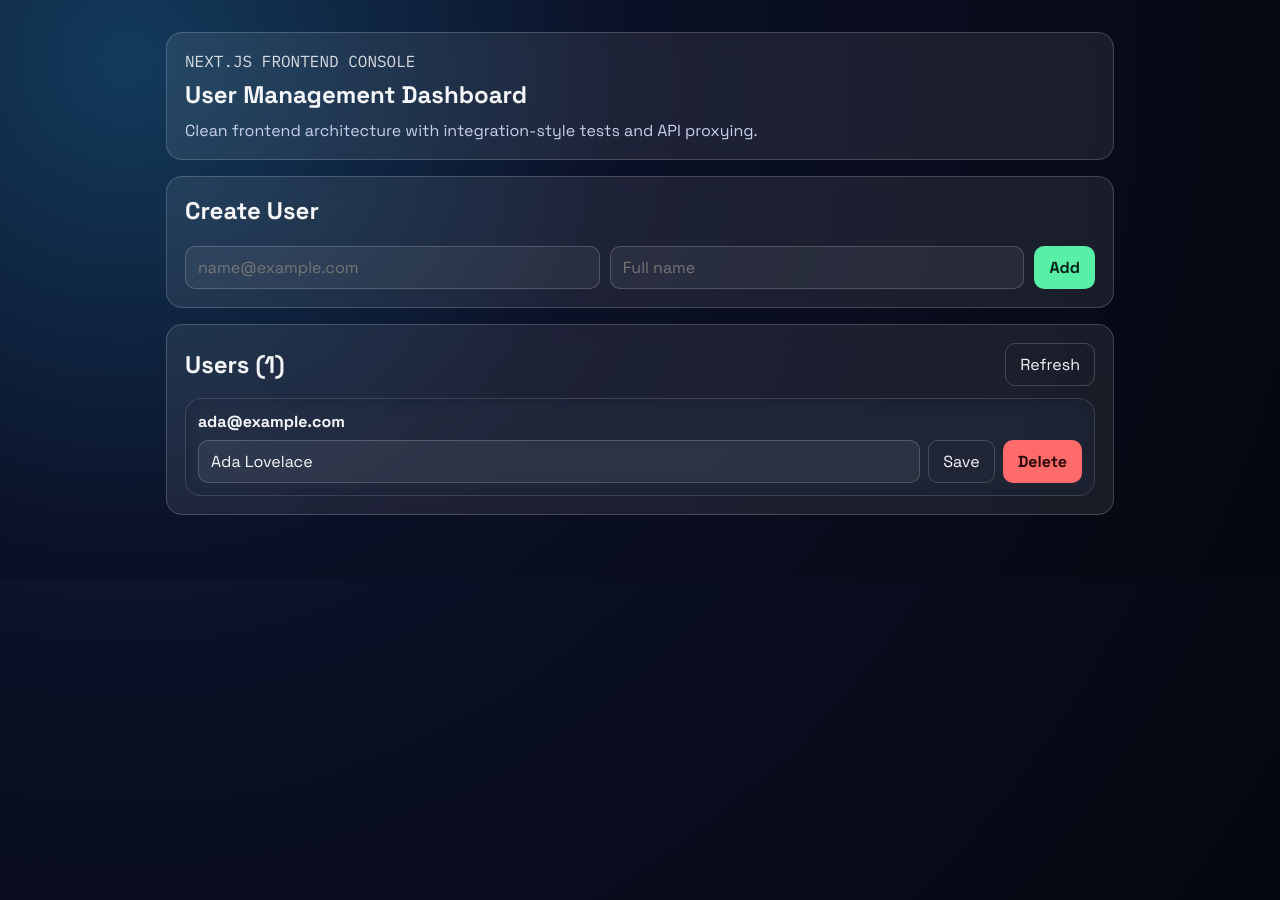
Scenario: UsersPage integration › creates a user
Check: the text "ada@example.com" is shown, box [198,411,345,432]
Step 1. Type "new@example.com" into the field named "email" → (392,267), box [185,246,600,289]
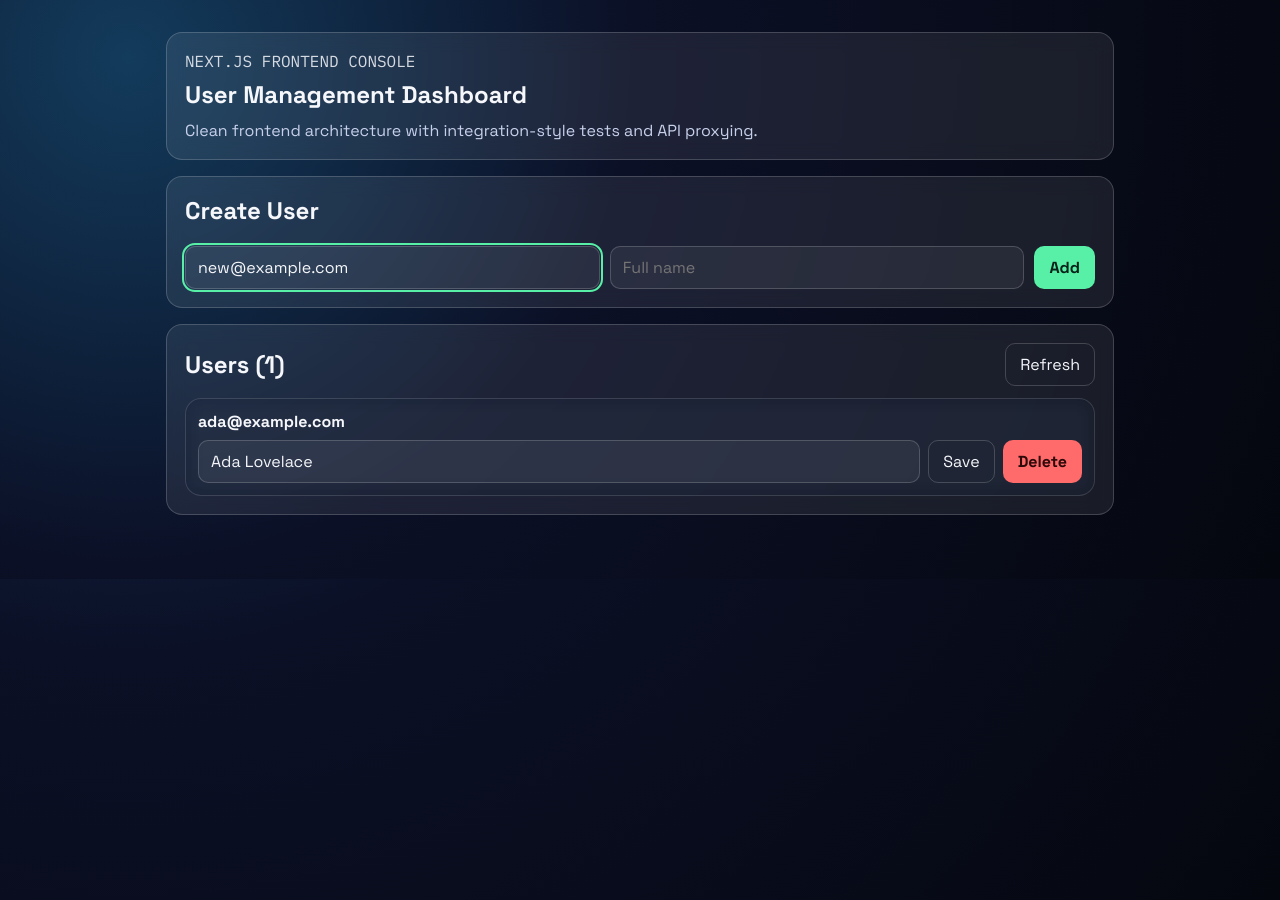
Step 2. Type "New Person" into the field labelled "name" → (817,267), box [610,246,1024,289]
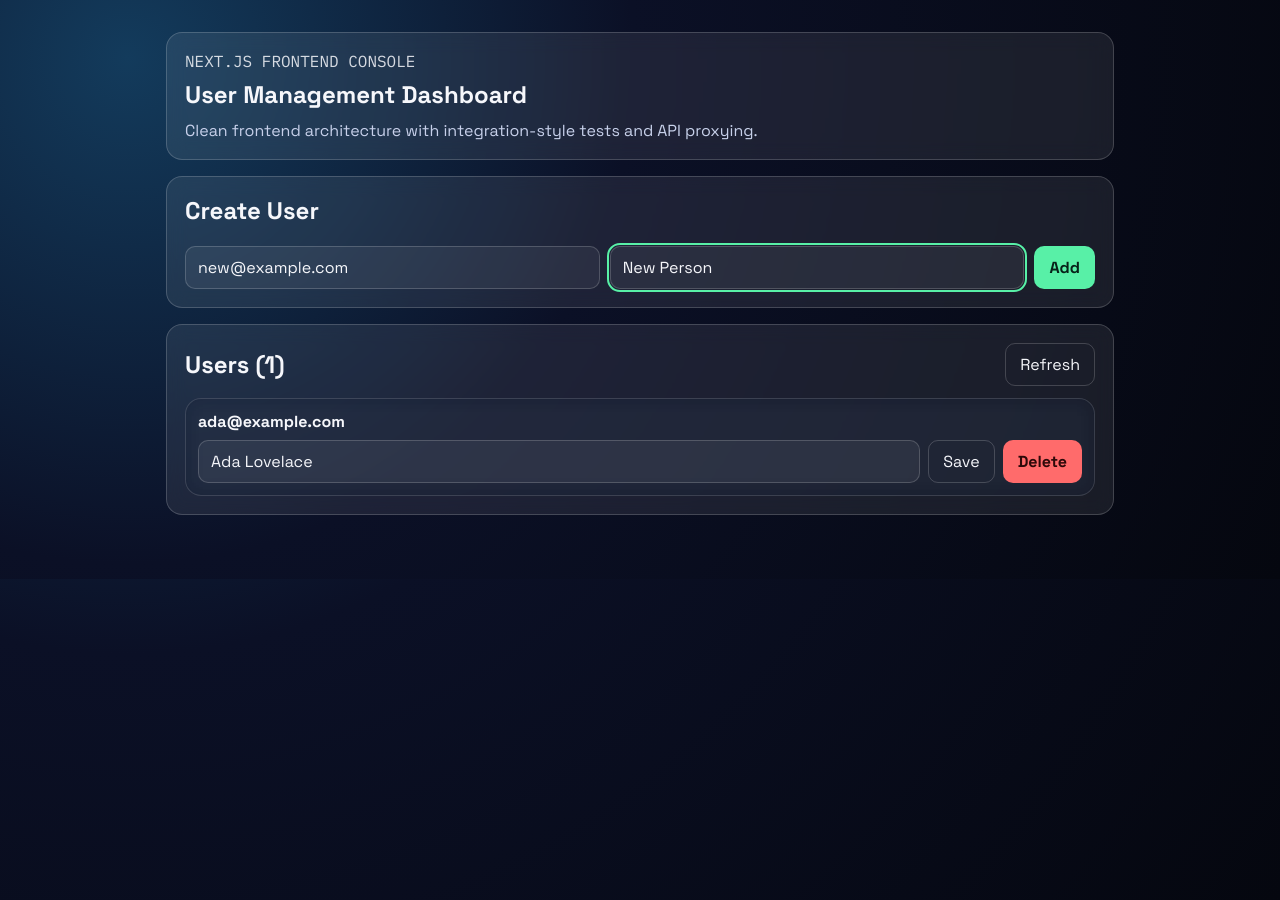
Step 3. Click the button "Add" → (1065,267), box [1034,246,1095,289]
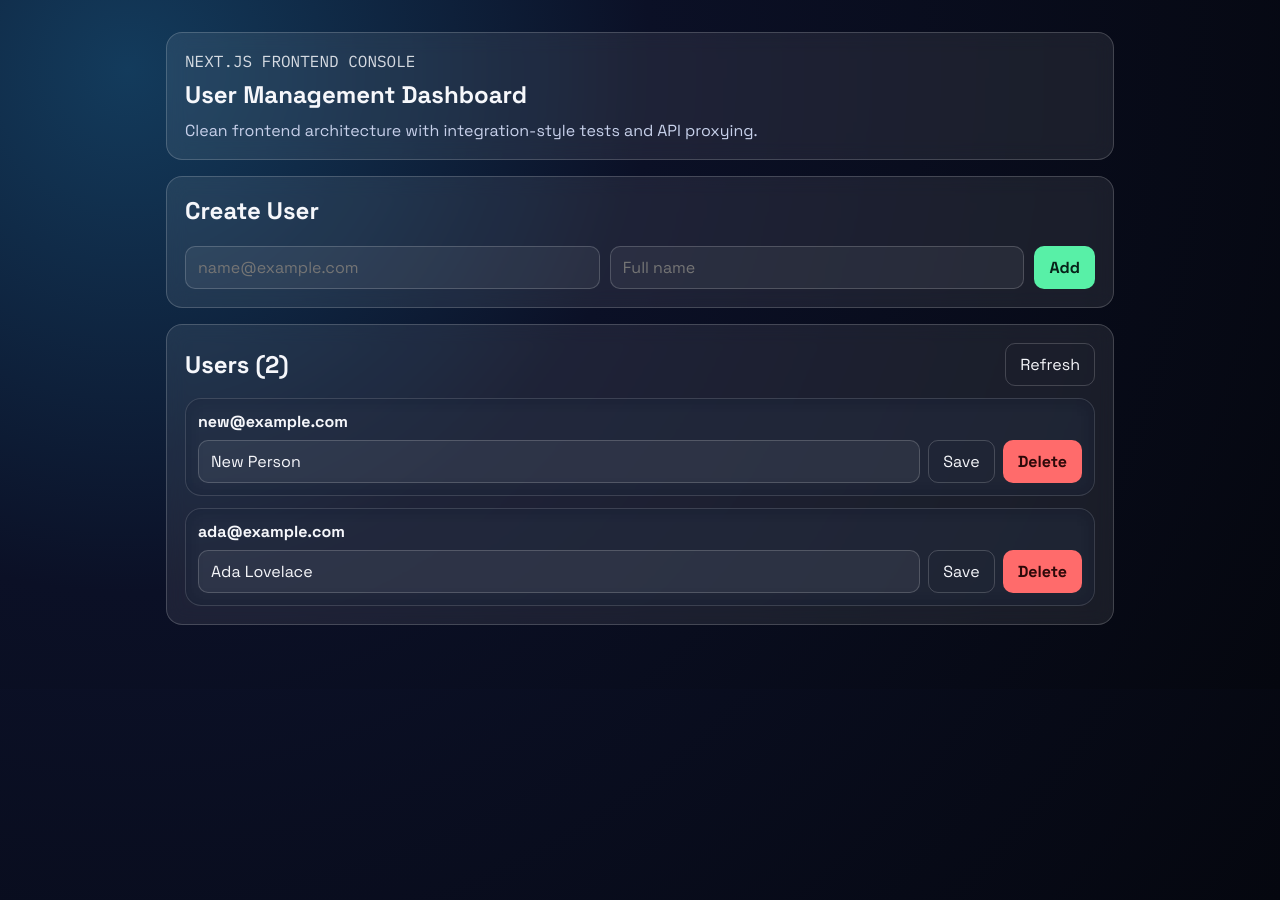
Check: the text "new@example.com" is shown, box [198,411,348,432]
Check: the heading "Users (2)" is shown, box [185,349,288,380]
